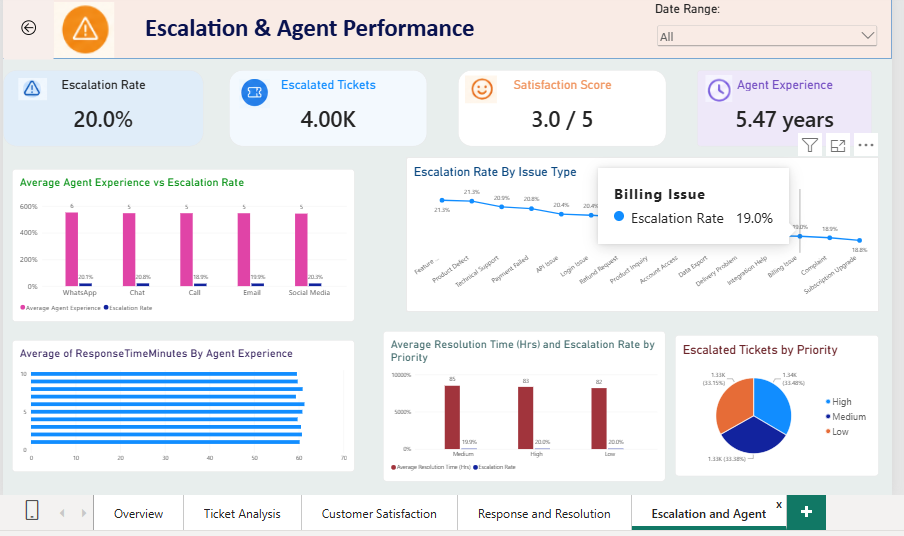

What the dashboard file says about the page in this screenshot:
{"tool":"powerbi","page":{"name":"Escalation and Agent","canvas":[1920,1080],"ordinal":4},"visuals":[{"type":"shape","box":[0,0,1920,137.5],"z":0},{"type":"textbox","box":[306,0,820,138],"z":1000},{"type":"image","box":[110,12,130,125],"z":2000},{"type":"slicer","title":"Date Range:","fields":{"Values":["customer_support_dataset.MonthYear"]},"box":[1407.5,12.5,485,112.5],"z":3000},{"type":"card","title":"Escalation Rate","fields":{"Values":["customer_support_dataset.Escalation Rate"]},"box":[0,162.5,432.5,165],"z":4000},{"type":"card","title":"Escalated Tickets","fields":{"Values":["customer_support_dataset.Escalated Tickets"]},"box":[487.5,162.5,427.5,165],"z":5000},{"type":"card","title":"Satisfaction Score","fields":{"Values":["customer_support_dataset.Satisfaction Score Display"]},"box":[982.5,162.5,450,165],"z":6000},{"type":"card","title":"Agent Experience","fields":{"Values":["customer_support_dataset.Agent Experience Display"]},"box":[1499,162,377.5,165],"z":7000},{"type":"lineChart","title":"Escalation Rate By Issue Type","fields":{"Category":["customer_support_dataset.IssueType"],"Y":["customer_support_dataset.Escalation Rate"]},"box":[870,350,1022.5,335],"z":8000},{"type":"clusteredColumnChart","title":"Average Agent Experience vs Escalation Rate","fields":{"Category":["customer_support_dataset.Channel"],"Y":["customer_support_dataset.Average Agent Experience","customer_support_dataset.Escalation Rate"]},"box":[20,375,740,330],"z":9000},{"type":"clusteredColumnChart","fields":{"Category":["customer_support_dataset.Priority"],"Y":["customer_support_dataset.Average Resolution Time (Hrs)","customer_support_dataset.Escalation Rate"]},"box":[820,725,610,325],"z":10000},{"type":"barChart","title":"Average of ResponseTimeMinutes By Agent Experience","fields":{"Category":["customer_support_dataset.AgentExperience"],"Y":["Avg(customer_support_dataset.ResponseTimeMinutes)"]},"box":[20,745,740,285],"z":11000},{"type":"pieChart","title":"Escalated Tickets by Priority","fields":{"Category":["customer_support_dataset.Priority"],"Y":["Count(customer_support_dataset.TicketID)"]},"box":[1452.5,735,440,305],"z":12000},{"type":"image","box":[28.1,179.3,71.3,47.5],"z":13000},{"type":"image","box":[509.8,181.4,67,62.6],"z":14000},{"type":"image","box":[1516.3,172.8,60.5,58.3],"z":15000},{"type":"image","box":[997.9,172.8,69.1,62.6],"z":16000},{"type":"actionButton","box":[0,0,110,140],"z":16001}]}

Visuals, with their boxes on the page's 1920x1080 design canvas (x1, y1, x2, y2). These are canvas units, not pixel positions in the 904x536 screenshot, which may show the page scaled, cropped or inside an application window:
shape: rect(0, 0, 1920, 138)
textbox: rect(306, 0, 1126, 138)
image: rect(110, 12, 240, 137)
"Date Range:" slicer: rect(1408, 12, 1892, 125)
"Escalation Rate" card: rect(0, 162, 432, 328)
"Escalated Tickets" card: rect(488, 162, 915, 328)
"Satisfaction Score" card: rect(982, 162, 1432, 328)
"Agent Experience" card: rect(1499, 162, 1876, 327)
"Escalation Rate By Issue Type" lineChart: rect(870, 350, 1892, 685)
"Average Agent Experience vs Escalation Rate" clusteredColumnChart: rect(20, 375, 760, 705)
clusteredColumnChart - customer_support_dataset.Priority x customer_support_dataset.Average Resolution Time (Hrs): rect(820, 725, 1430, 1050)
"Average of ResponseTimeMinutes By Agent Experience" barChart: rect(20, 745, 760, 1030)
"Escalated Tickets by Priority" pieChart: rect(1452, 735, 1892, 1040)
image: rect(28, 179, 99, 227)
image: rect(510, 181, 577, 244)
image: rect(1516, 173, 1577, 231)
image: rect(998, 173, 1067, 235)
actionButton: rect(0, 0, 110, 140)
